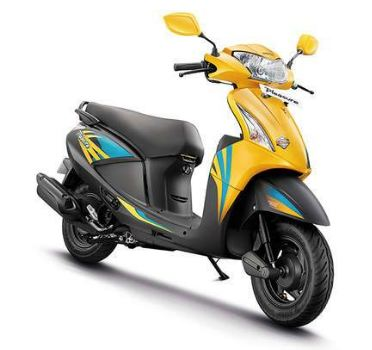bike: (34, 9, 336, 331)
